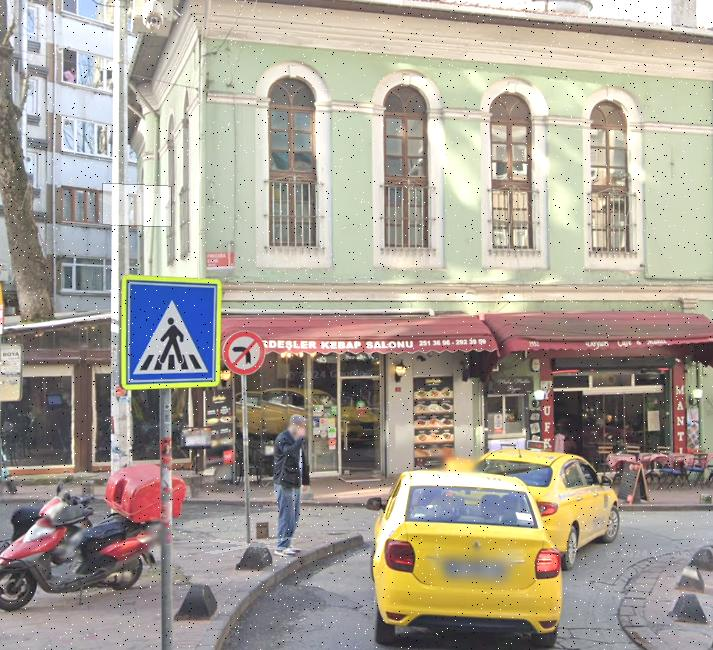rightturnsareforbidden: (223, 332, 267, 376)
